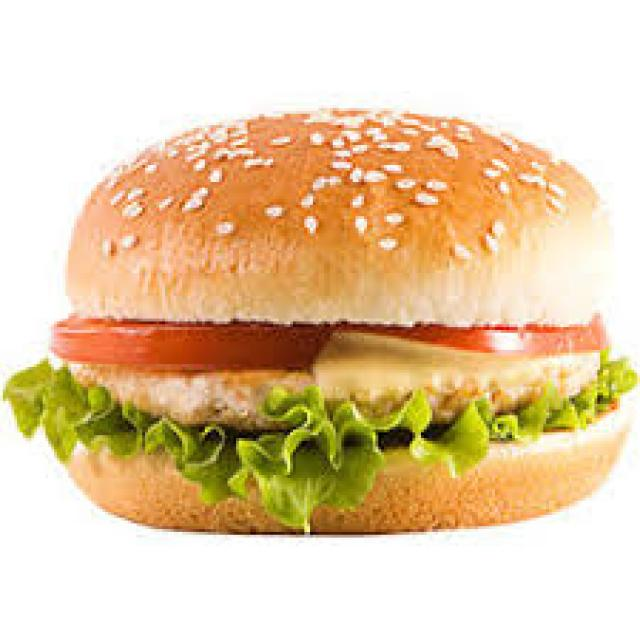Tomato: (48, 307, 609, 418)
burger: (9, 102, 640, 538)
